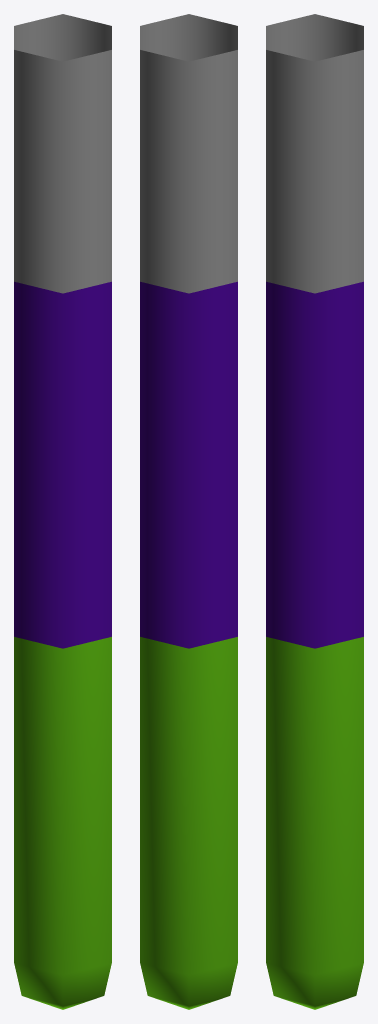
3 views of the same model, side by side, from view 1: azimuth 30°, elevation 25°; view 2: azimuth 210°, elevation 25°; view 3: azimuth 330°, elevation 25° (orthographic).
Visible parts, largest first — view 1: Test_Tube; view 2: Test_Tube; view 3: Test_Tube.
Part boxes in pixels (box(x1,y1,x2,y2)): Test_Tube: box(14, 14, 111, 1009); Test_Tube: box(140, 14, 237, 1009); Test_Tube: box(266, 14, 363, 1009).
Bounding box in the file's own units: 2.81 × 2.43 × 26.69.
